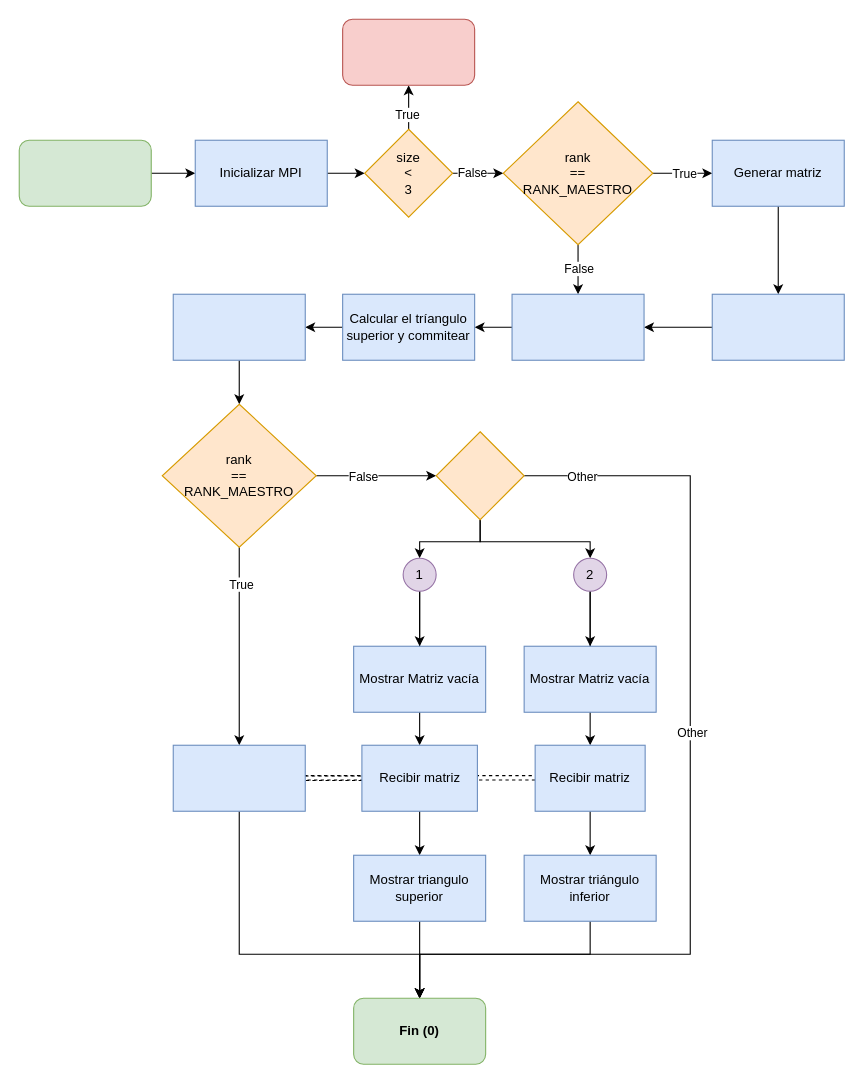
This 864x1084 diagram has some shape labels left out. Each missing label, with the centre of its shape:
Calcular el tríangulo inferior y commitear: pixel 238 326
Enviar matriz triangular de datos: pixel 238 777
Inicializar variables necesarias: pixel 577 326
Inicio: pixel 84 172
Mostrar Matriz completa: pixel 777 326
MPI Abort (1): pixel 408 51
RANK?: pixel 479 475
